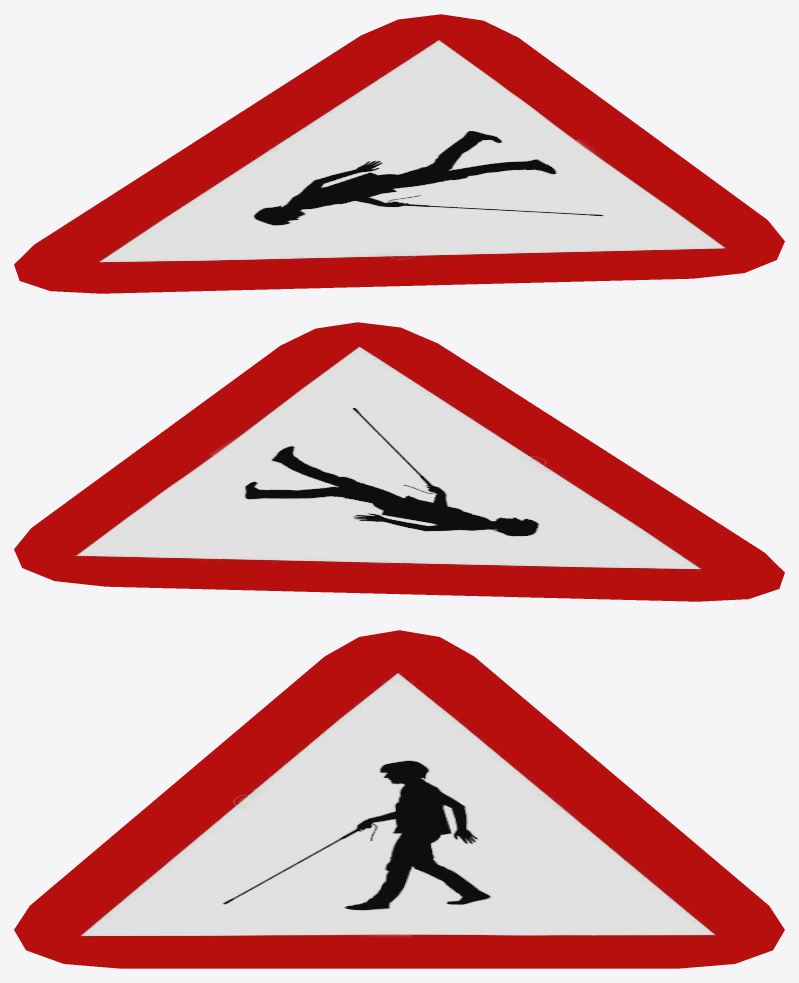
The model's file is blind_sign.fbx.
3 views of the same model, one above another, from view 1: azimuth 30°, elevation 25°; view 2: azimuth 150°, elevation 25°; view 3: azimuth 270°, elevation 25° (orthographic). The views are drawn at different scales.
Parts seen in each view (by area): view 1: Cube; view 2: Cube; view 3: Cube.
Boxes of the visible parts, left/top/right/bottom form: Cube: left=14, top=14, right=784, bottom=293; Cube: left=14, top=322, right=784, bottom=601; Cube: left=14, top=630, right=784, bottom=968.
Bounding box in the file's own units: 180 × 0 × 174.
1 material, 1 textured.
